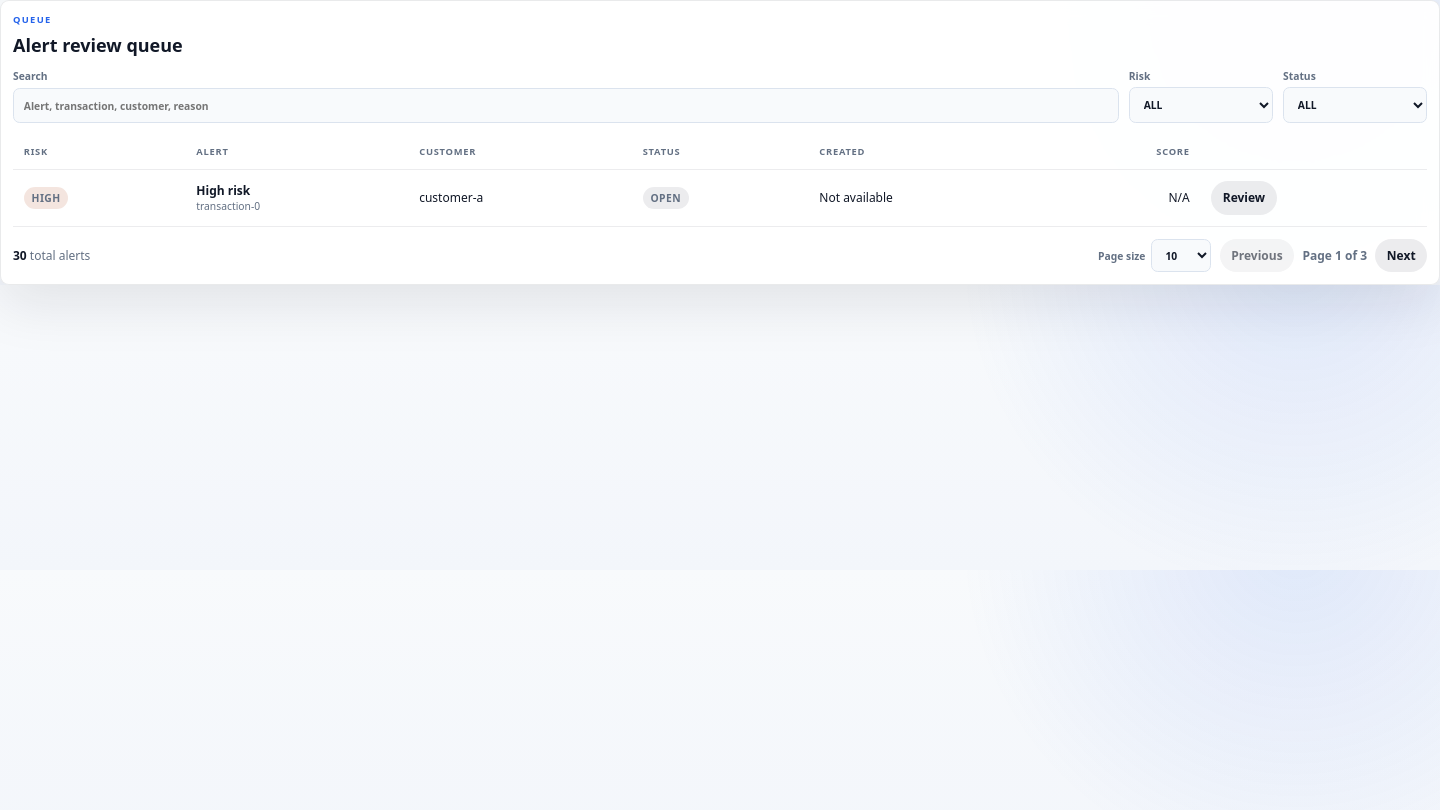
Test: Alert Queue local filtering and backend pagination › keeps backend pagination available when the local risk filter has no matches
Later steps or results of the test are not shown.
Select "LOW" in the dropdown labelled "Risk" at (1201, 105), box [1129, 87, 1273, 123]
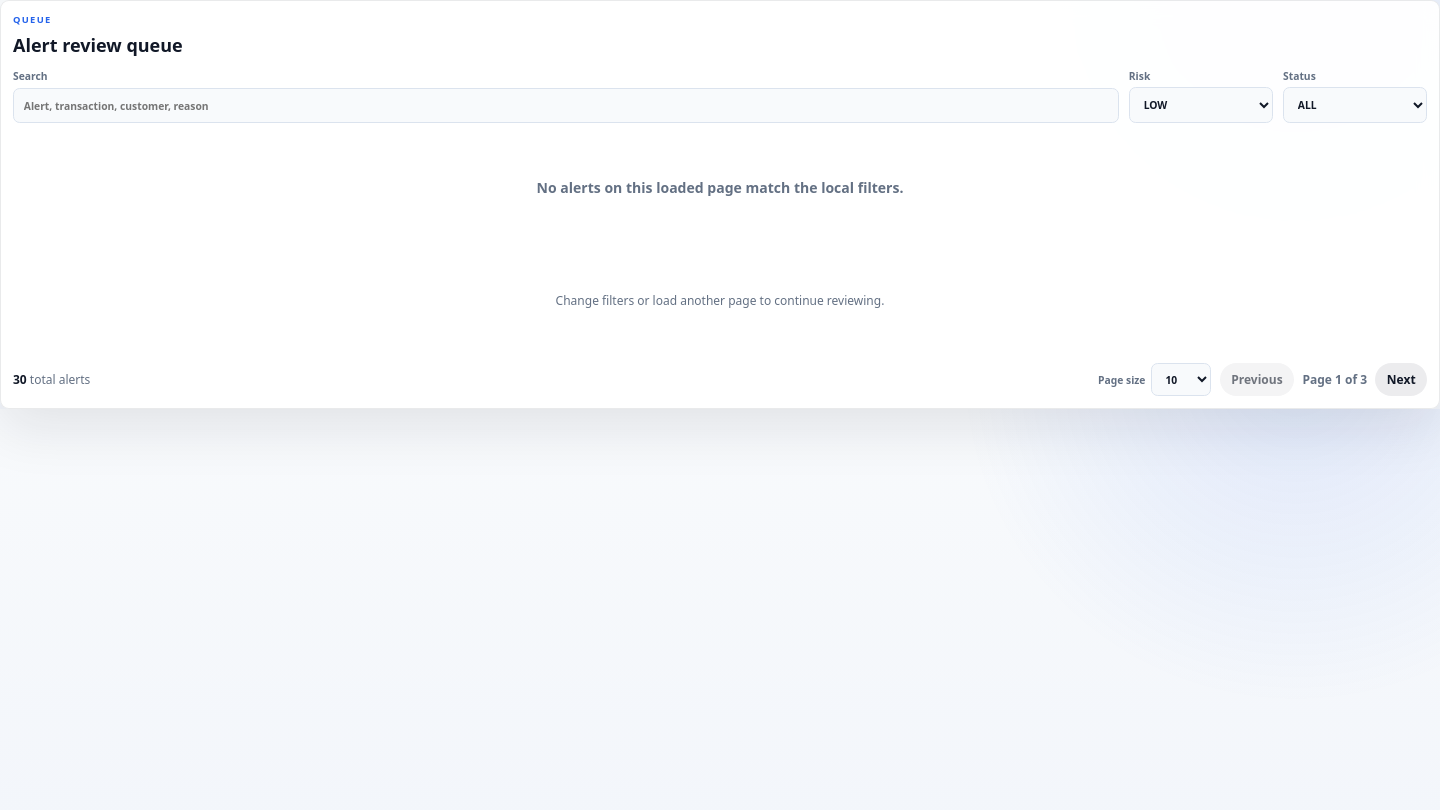
Check: the text "Page 1 of 3" is shown, box [1302, 371, 1367, 388]
Check: the heading "No alerts on this loaded page match the local filters." is shown, box [536, 178, 903, 197]
